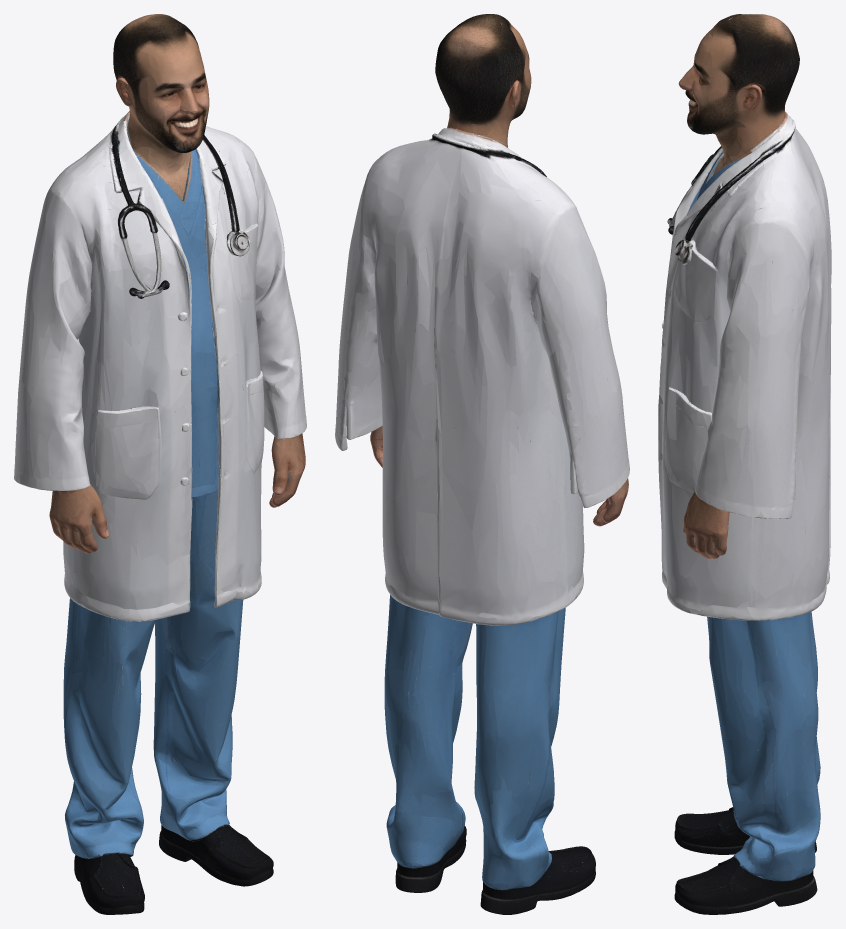
File: doctor.glb
3 views of the same model, side by side, from view 1: azimuth 30°, elevation 25°; view 2: azimuth 150°, elevation 25°; view 3: azimuth 270°, elevation 25° (orthographic).
Size of the model in its own units: 0.6412 by 1.9 by 0.3485.
Materials: 1 (1 with a texture image).
